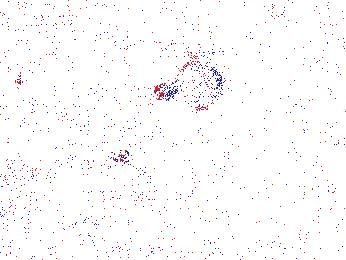flame jellyfish: (154, 60, 227, 114), (106, 149, 154, 207), (1, 168, 44, 222)
